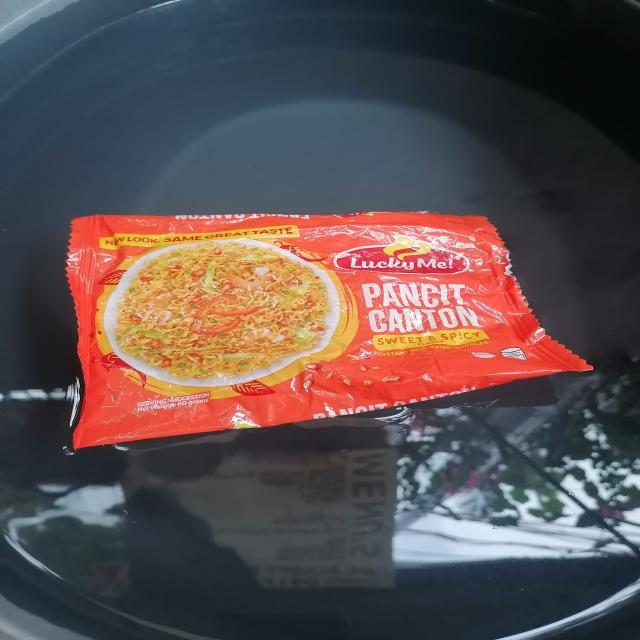Plastic Wrapper: (43, 195, 614, 470)
